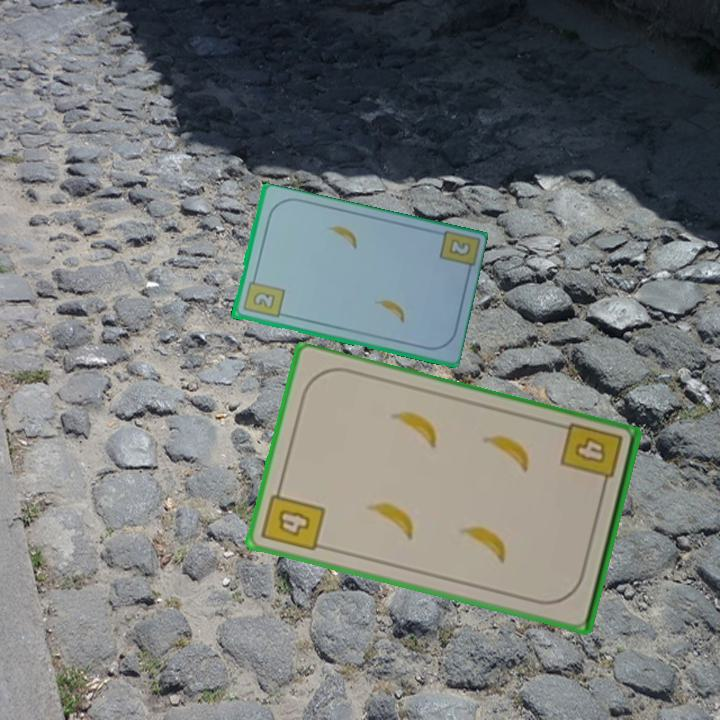2b: (239, 273, 287, 321), (445, 235, 472, 259)
4b: (557, 420, 626, 495), (258, 482, 328, 554)
